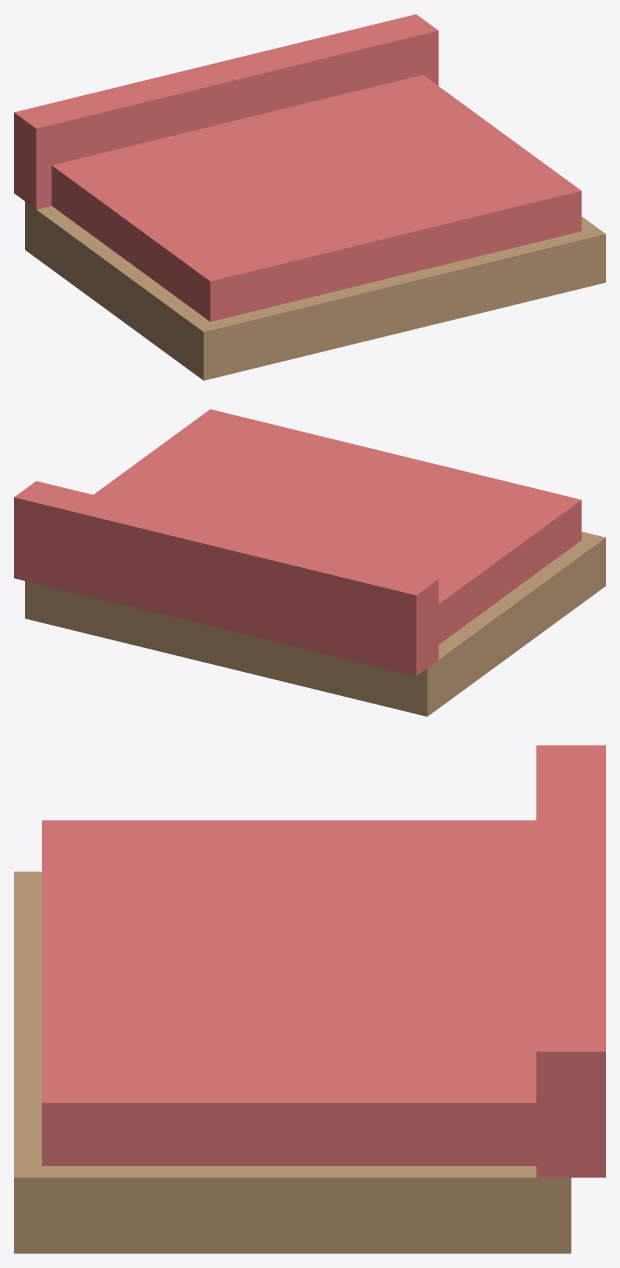
Rendered from Prop_Pet_AMF_Bed_V11.glb.
The picture shows the model from 3 angles, top to bottom: view 1: azimuth 30°, elevation 25°; view 2: azimuth 150°, elevation 25°; view 3: azimuth 270°, elevation 25°; orthographic projection. The views are drawn at different scales.
Parts seen in each view (by area): view 1: Prop_Pet_AMF_Bed_V11; view 2: Prop_Pet_AMF_Bed_V11; view 3: Prop_Pet_AMF_Bed_V11.
Part boxes in pixels (<box>): Prop_Pet_AMF_Bed_V11: <box>14,14,605,380</box>; Prop_Pet_AMF_Bed_V11: <box>14,409,605,716</box>; Prop_Pet_AMF_Bed_V11: <box>14,745,605,1253</box>.
Size of the model in its own units: 1.04 by 0.32 by 0.85.
